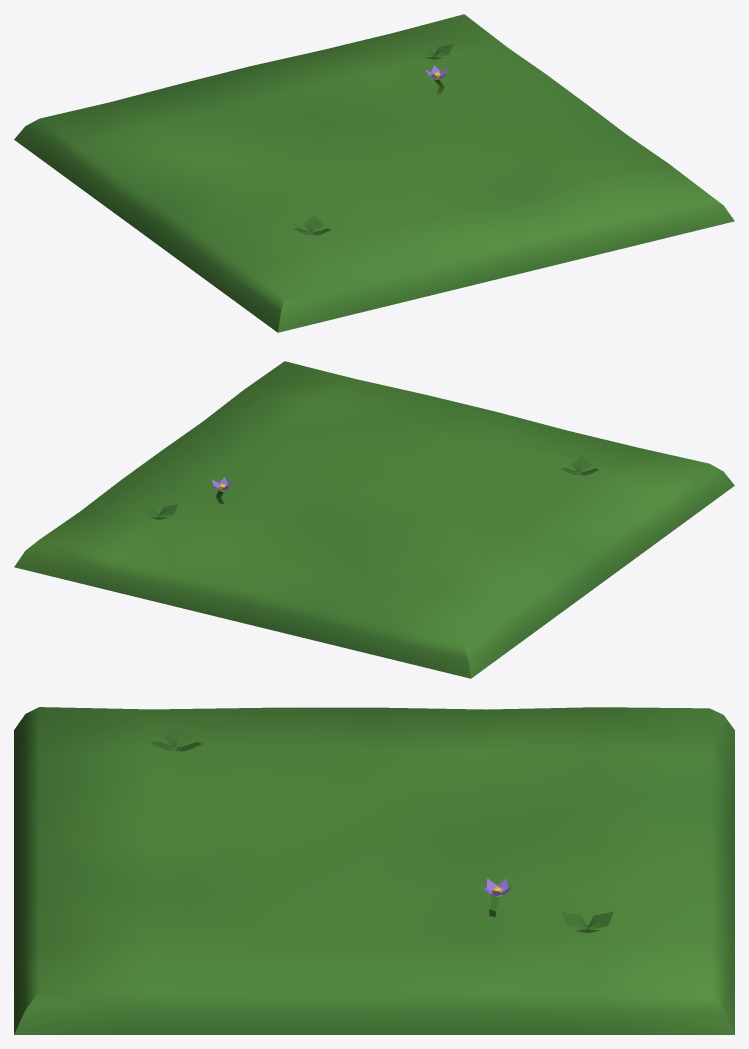
File: GroundTileB.fbx
3 renders of one model, top to bottom at view 1: azimuth 30°, elevation 25°; view 2: azimuth 150°, elevation 25°; view 3: azimuth 270°, elevation 25°, orthographic. The views are drawn at different scales.
Parts seen in each view (by area): view 1: GroundTileB; view 2: GroundTileB; view 3: GroundTileB.
Boxes of the visible parts, x1,y1,x2,y2 form: GroundTileB: (14,14,734,332); GroundTileB: (14,361,734,678); GroundTileB: (14,707,734,1034).
Bounding box in the file's own units: 1 × 0.1075 × 1.
